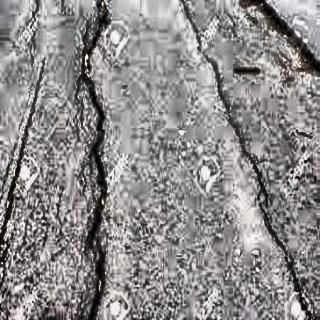crack: (73, 0, 112, 320), (0, 0, 46, 260)
